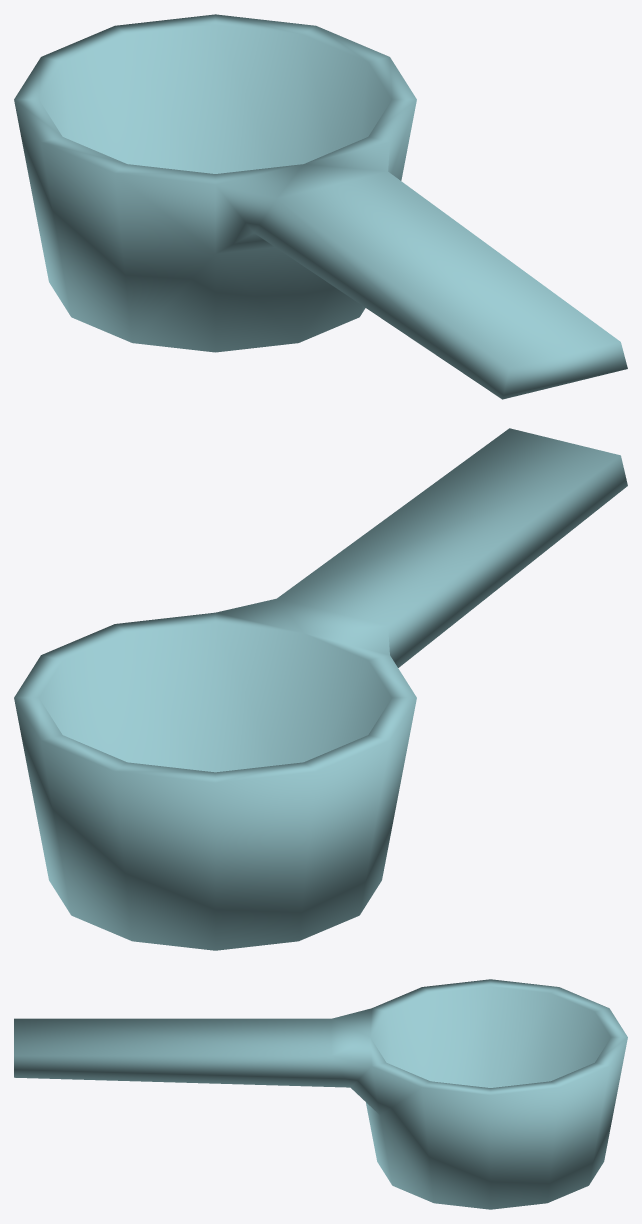
File: ScoopA.fbx
The picture shows the model from 3 angles, top to bottom: view 1: azimuth 30°, elevation 25°; view 2: azimuth 150°, elevation 25°; view 3: azimuth 270°, elevation 25°; orthographic projection. The views are drawn at different scales.
Visible parts, largest first — view 1: ScoopA; view 2: ScoopA; view 3: ScoopA.
Boxes of the visible parts, <box> form: ScoopA: <box>14,14,627,399</box>; ScoopA: <box>14,428,627,950</box>; ScoopA: <box>14,979,627,1209</box>.
Bounding box in the file's own units: 10.57 × 5.28 × 23.63.
